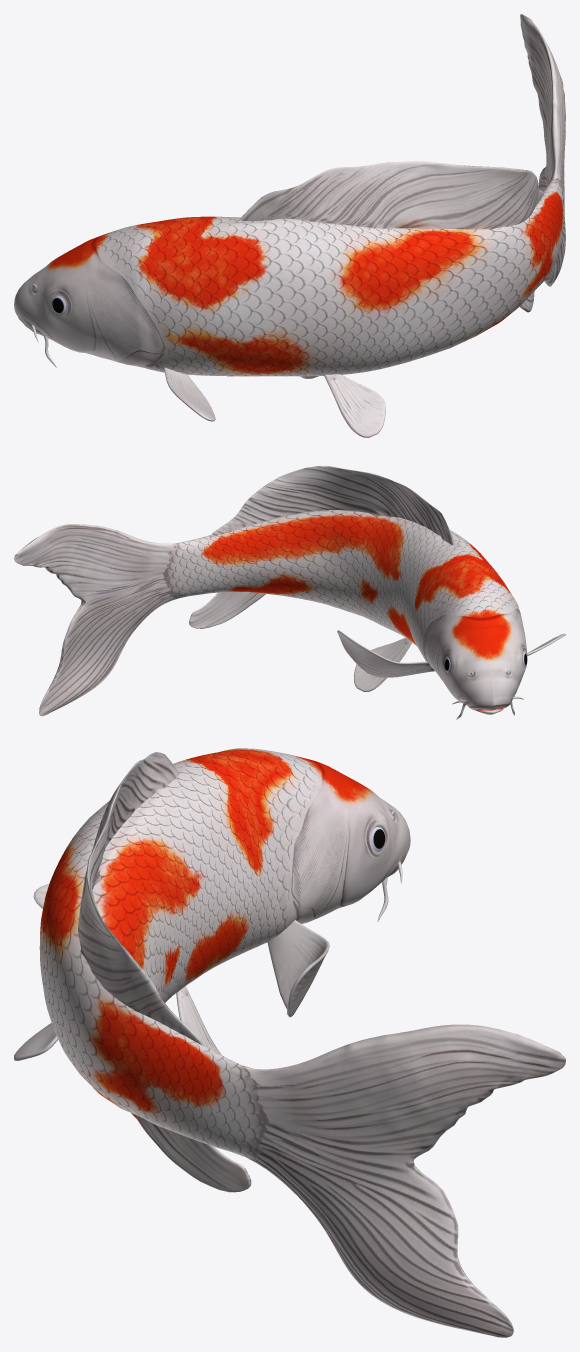
Rendered from koi.glb.
3 views of the same model, one above another, from view 1: azimuth 30°, elevation 25°; view 2: azimuth 150°, elevation 25°; view 3: azimuth 270°, elevation 25° (orthographic). The views are drawn at different scales.
Visible parts, largest first — view 1: Object_4; view 2: Object_4; view 3: Object_4.
Part boxes in pixels (x1,y1,x2,y2): Object_4: (14,14,565,437); Object_4: (14,466,565,719); Object_4: (14,748,565,1337).
Bounding box in the file's own units: 0.8877 × 0.4102 × 0.5685.
1 material, 1 textured.
